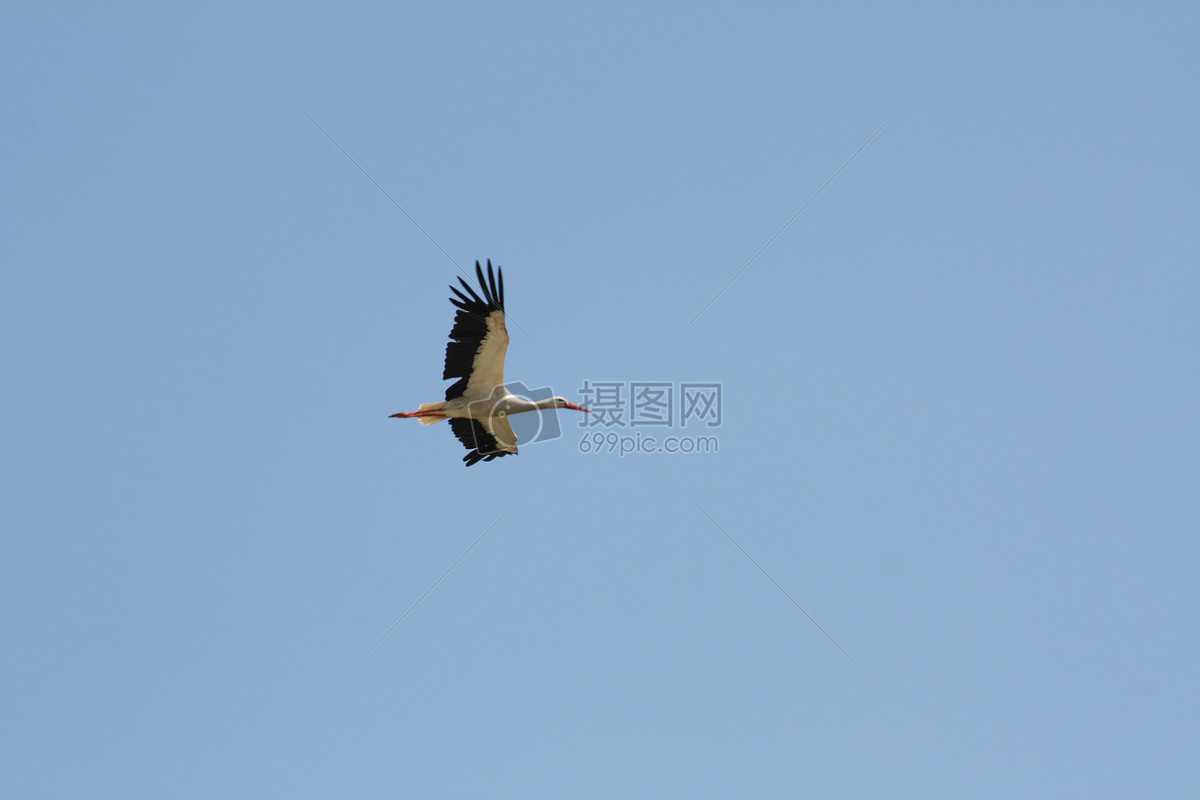bird: (376, 262, 582, 463)
